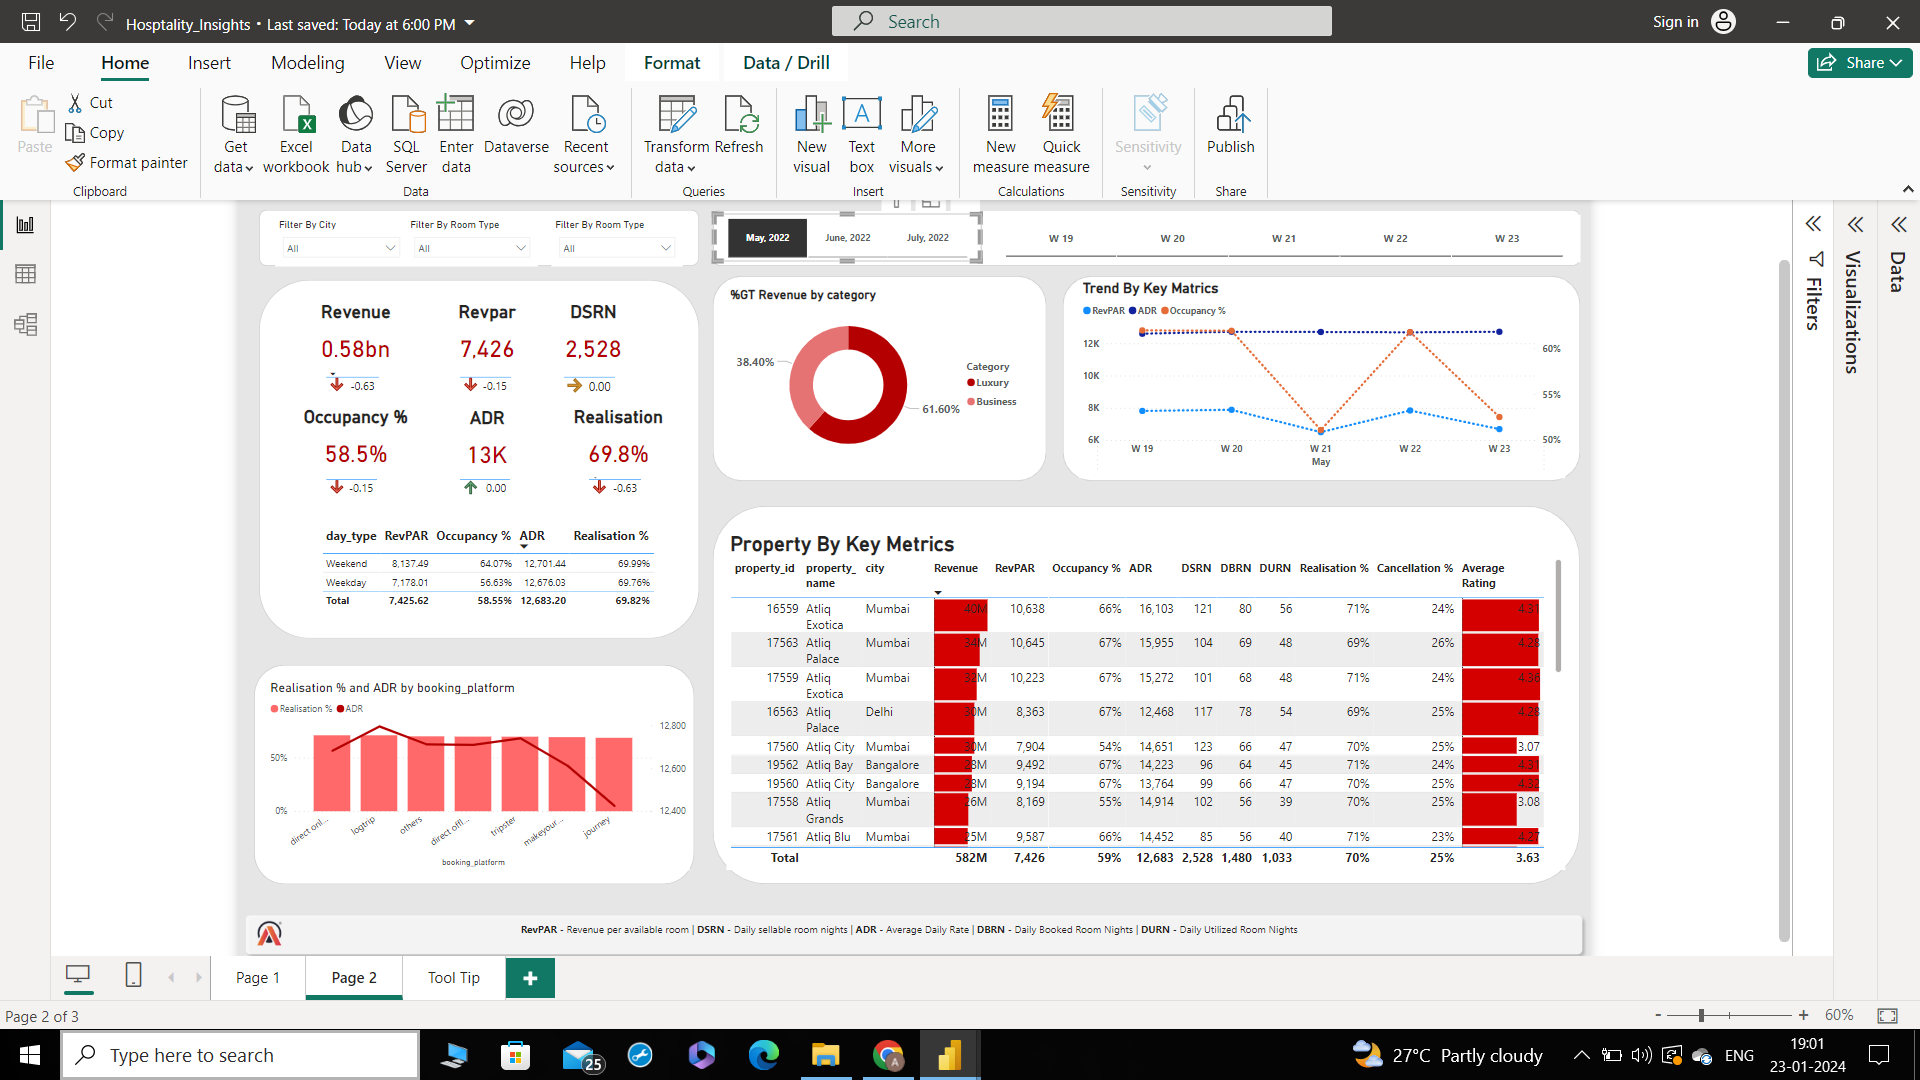

Layout of this report page (visuals, bound fields, positions):
{"tool":"powerbi","page":{"name":"Page 2","canvas":[1800,1100],"ordinal":1},"visuals":[{"type":"shape","box":[0,1016,1800,70],"z":0},{"type":"shape","box":[20,691.4,587.1,292.9],"z":1000},{"type":"shape","box":[632,480,1156,504],"z":2000},{"type":"shape","box":[1098.3,173.3,690,273.3],"z":3000},{"type":"shape","box":[631.7,173.3,445,273.3],"z":4000},{"type":"shape","box":[631.7,85,1156.7,75],"z":5000},{"type":"shape","box":[27.1,178.6,587.1,478.6],"z":6000},{"type":"shape","box":[26.7,85,586.7,75],"z":7000},{"type":"tableEx","title":"Property By Key Metrics","fields":{"Values":["dim_hotels.property_id","dim_hotels.property_name","dim_hotels.city","key_measures (2).Revenue","key_measures (2).RevPAR","key_measures (2).Occupancy %","key_measures (2).ADR","key_measures (2).DSRN","key_measures (2).DBRN","key_measures (2).DURN","key_measures (2).Realisation %","key_measures (2).Cancellation %"]},"box":[650,515.7,1118.6,450],"z":8000},{"type":"slicer","title":"Filter By City","fields":{"Values":["dim_hotels.city"]},"box":[48,96,176,64],"z":9000},{"type":"slicer","title":"Filter By Room Type","fields":{"Values":["dim_rooms.room_class"]},"box":[417,96,175,64],"z":10000},{"type":"slicer","fields":{"Values":["dim_date.mmm yy"]},"box":[631.7,90,358.3,65],"z":11000},{"type":"slicer","fields":{"Values":["dim_date.week no"]},"box":[996.7,91.7,791.7,63.3],"z":12000},{"type":"tableEx","fields":{"Values":["key_measures (2).\"Revenue WoW change %"]},"box":[110.8,281.5,88.5,57.7],"z":13000},{"type":"donutChart","fields":{"Category":["dim_hotels.category"],"Y":["key_measures (2).Revenue"]},"box":[650,188.3,405,241.7],"z":14000},{"type":"lineStackedColumnComboChart","fields":{"Category":["fact_bookings.booking_platform"],"Y":["key_measures (2).Realisation %"],"Y2":["key_measures (2).ADR"]},"box":[37.1,711.4,564.3,254.3],"z":15000},{"type":"lineChart","title":"Trend By Key Matrics","fields":{"Category":["dim_date.mmm yy.Variation.Date Hierarchy.Month","dim_date.week no"],"Y2":["key_measures (2).Occupancy %"],"Y":["key_measures (2).RevPAR","key_measures (2).ADR"]},"box":[1120,178.3,648.3,265],"z":16000},{"type":"tableEx","fields":{"Values":["dim_date.day_type","key_measures (2).RevPAR","key_measures (2).Occupancy %","key_measures (2).ADR","key_measures (2).Realisation %"]},"box":[105,500,455,126.7],"z":17000},{"type":"slicer","title":"Filter By Room Type","fields":{"Values":["dim_rooms.room_class"]},"box":[224,96,175,64],"z":18000},{"type":"image","box":[0,1028,81.3,42.7],"z":20000},{"type":"textbox","box":[345,1029.6,1093.6,39],"z":21000},{"type":"tableEx","fields":{"Values":["key_measures (2).\"DSRN WoW change %"]},"box":[426.9,281.5,88.5,56.2],"z":22000},{"type":"tableEx","fields":{"Values":["key_measures (2).\"Revpar WoW change %"]},"box":[287.7,281.5,89.2,55.4],"z":23000},{"type":"card","title":"DSRN","fields":{"Values":["key_measures (2).DSRN"]},"box":[384.3,206.8,175,95],"z":24000},{"type":"card","title":"Revpar","fields":{"Values":["key_measures (2).RevPAR"]},"box":[242.7,206.5,175,95],"z":25000},{"type":"card","title":"Revenue","fields":{"Values":["key_measures (2).Revenue"]},"box":[67.7,206.5,175,95],"z":26000},{"type":"tableEx","fields":{"Values":["key_measures (2).\"Occupancy WoW change %"]},"box":[110.8,417.7,88.5,57.7],"z":27000},{"type":"card","title":"Occupancy %","fields":{"Values":["key_measures (2).Occupancy %"]},"box":[67.7,347.5,175,95],"z":28000},{"type":"tableEx","fields":{"Values":["key_measures (2).\"ADR WoW change %"]},"box":[287.7,417.7,88.5,57.7],"z":29000},{"type":"tableEx","fields":{"Values":["key_measures (2).\"Revenue WoW change %"]},"box":[460,418.5,88.5,57.7],"z":30000},{"type":"card","title":"ADR","fields":{"Values":["key_measures (2).ADR"]},"box":[242.7,348.5,175,95],"z":31000},{"type":"card","title":"Realisation","fields":{"Values":["key_measures (2).Realisation %"]},"box":[417.7,347.5,175,95],"z":31500}]}

Visuals, with their boxes on the page's 1800x1100 design canvas (x1, y1, x2, y2). These are canvas units, not pixel positions in the 1920x1080 screenshot, which may show the page scaled, cropped or inside an application window:
shape: rect(0, 1016, 1800, 1086)
shape: rect(20, 691, 607, 984)
shape: rect(632, 480, 1788, 984)
shape: rect(1098, 173, 1788, 447)
shape: rect(632, 173, 1077, 447)
shape: rect(632, 85, 1788, 160)
shape: rect(27, 179, 614, 657)
shape: rect(27, 85, 613, 160)
"Property By Key Metrics" tableEx: rect(650, 516, 1769, 966)
"Filter By City" slicer: rect(48, 96, 224, 160)
"Filter By Room Type" slicer: rect(417, 96, 592, 160)
slicer - dim_date.mmm yy: rect(632, 90, 990, 155)
slicer - dim_date.week no: rect(997, 92, 1788, 155)
tableEx - key_measures (2)."Revenue WoW change %: rect(111, 282, 199, 339)
donutChart - dim_hotels.category x key_measures (2).Revenue: rect(650, 188, 1055, 430)
lineStackedColumnComboChart - fact_bookings.booking_platform x key_measures (2).Realisation %: rect(37, 711, 601, 966)
"Trend By Key Matrics" lineChart: rect(1120, 178, 1768, 443)
tableEx - dim_date.day_type x key_measures (2).RevPAR: rect(105, 500, 560, 627)
"Filter By Room Type" slicer: rect(224, 96, 399, 160)
image: rect(0, 1028, 81, 1071)
textbox: rect(345, 1030, 1439, 1069)
tableEx - key_measures (2)."DSRN WoW change %: rect(427, 282, 515, 338)
tableEx - key_measures (2)."Revpar WoW change %: rect(288, 282, 377, 337)
"DSRN" card: rect(384, 207, 559, 302)
"Revpar" card: rect(243, 206, 418, 302)
"Revenue" card: rect(68, 206, 243, 302)
tableEx - key_measures (2)."Occupancy WoW change %: rect(111, 418, 199, 475)
"Occupancy %" card: rect(68, 348, 243, 442)
tableEx - key_measures (2)."ADR WoW change %: rect(288, 418, 376, 475)
tableEx - key_measures (2)."Revenue WoW change %: rect(460, 418, 548, 476)
"ADR" card: rect(243, 348, 418, 444)
"Realisation" card: rect(418, 348, 593, 442)
